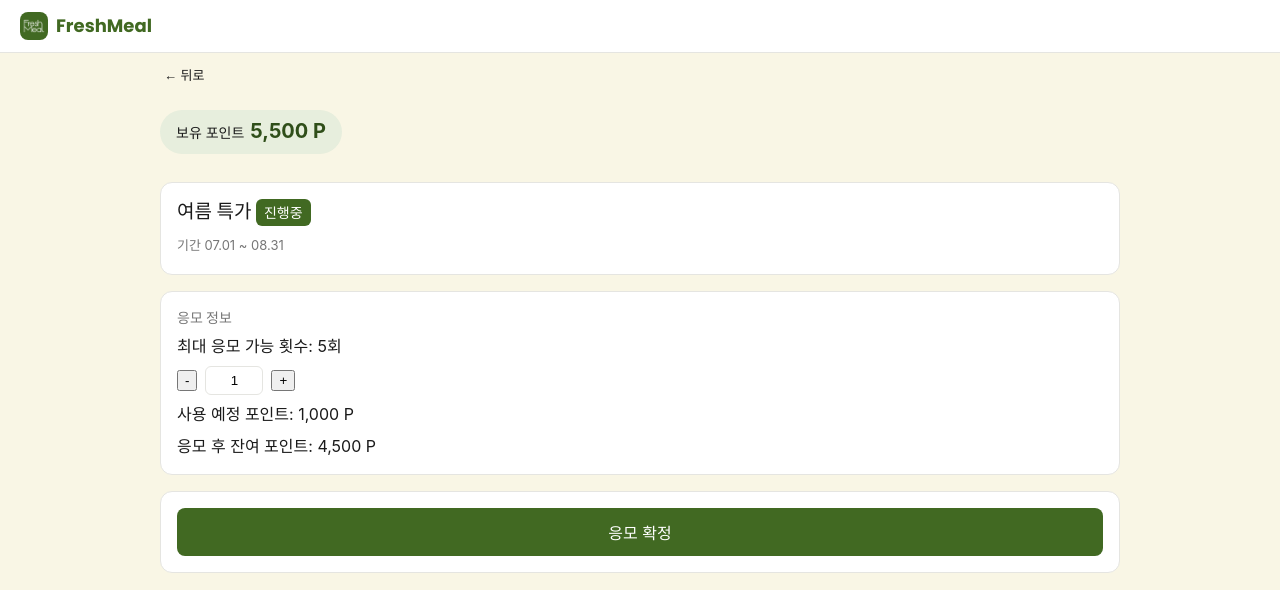
Test case: EventDetailPage › + 버튼을 누르면 미리보기 포인트가 갱신된다
Click the button "+": [283, 381] box [272,370,295,391]
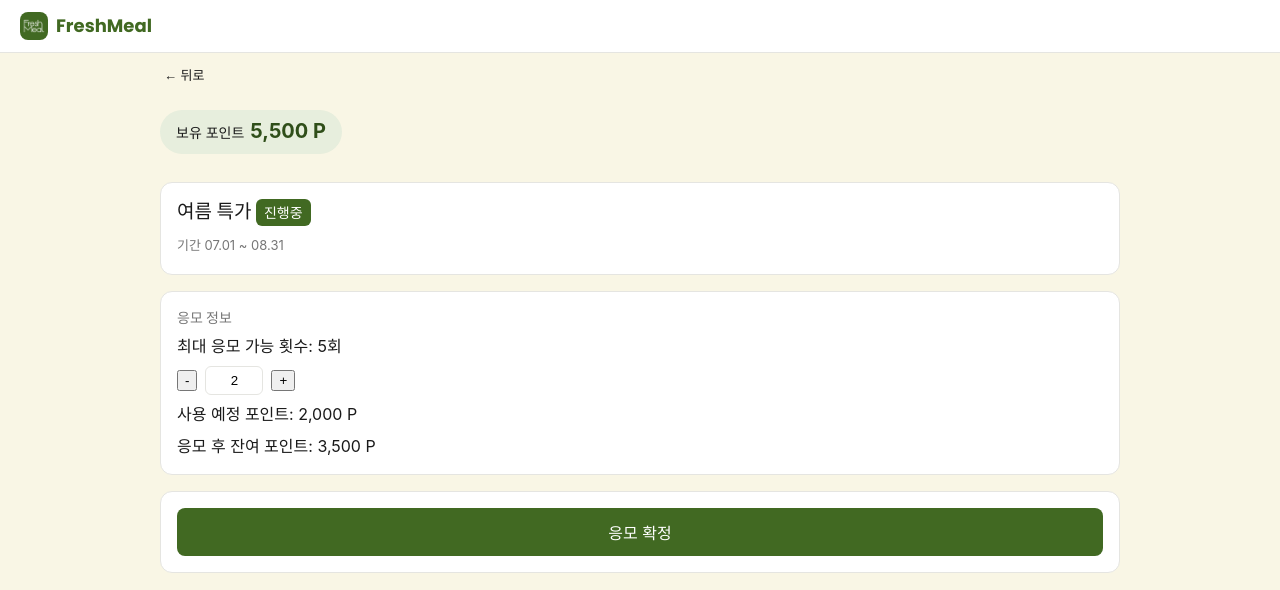
Click the button "+": [283, 381] box [272,370,295,391]
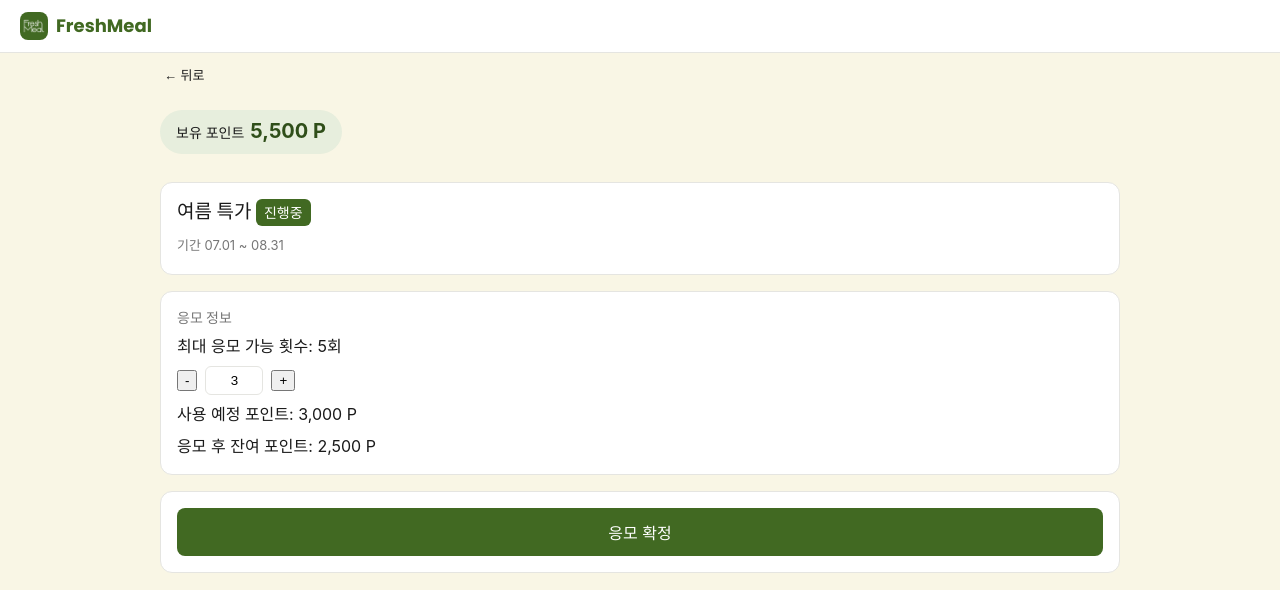
Expected: the text "사용 예정 포인트: 3,000 P" is shown, [177,404,357,424]
Expected: the text "응모 후 잔여 포인트: 2,500 P" is shown, [177,436,376,456]
